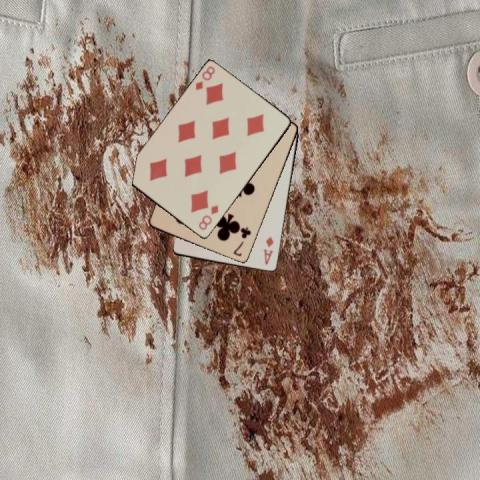7c: (231, 224, 253, 258)
8d: (195, 202, 220, 232), (192, 63, 216, 92)
Ad: (261, 233, 275, 267)
